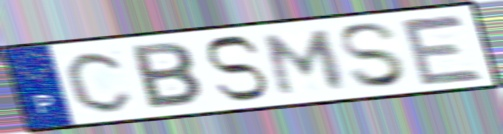B: (128, 40, 206, 112)
C: (63, 48, 138, 115)
E: (396, 13, 488, 87)
M: (262, 28, 349, 98)
S: (335, 20, 412, 90), (202, 34, 272, 104)
